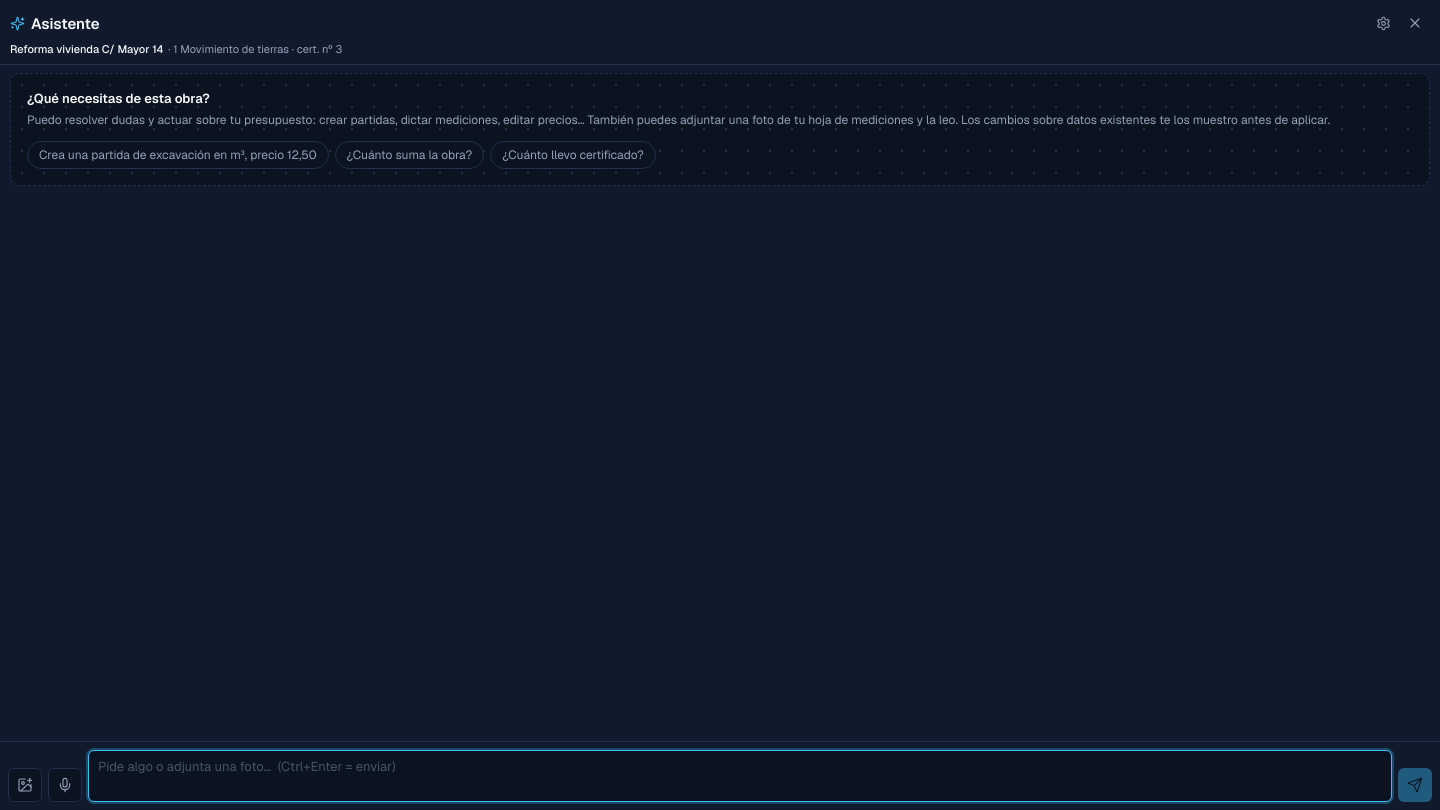
Scenario: AsistenteChat (smoke) › el botón de enviar está deshabilitado sin texto y se habilita al escribir
Expected: the button named "Enviar" is disabled, [1398, 768, 1432, 802]
Type "hola" into the text box named "Escribe tu consulta o una orden". click: (740, 776)
box: [88, 750, 1392, 802]
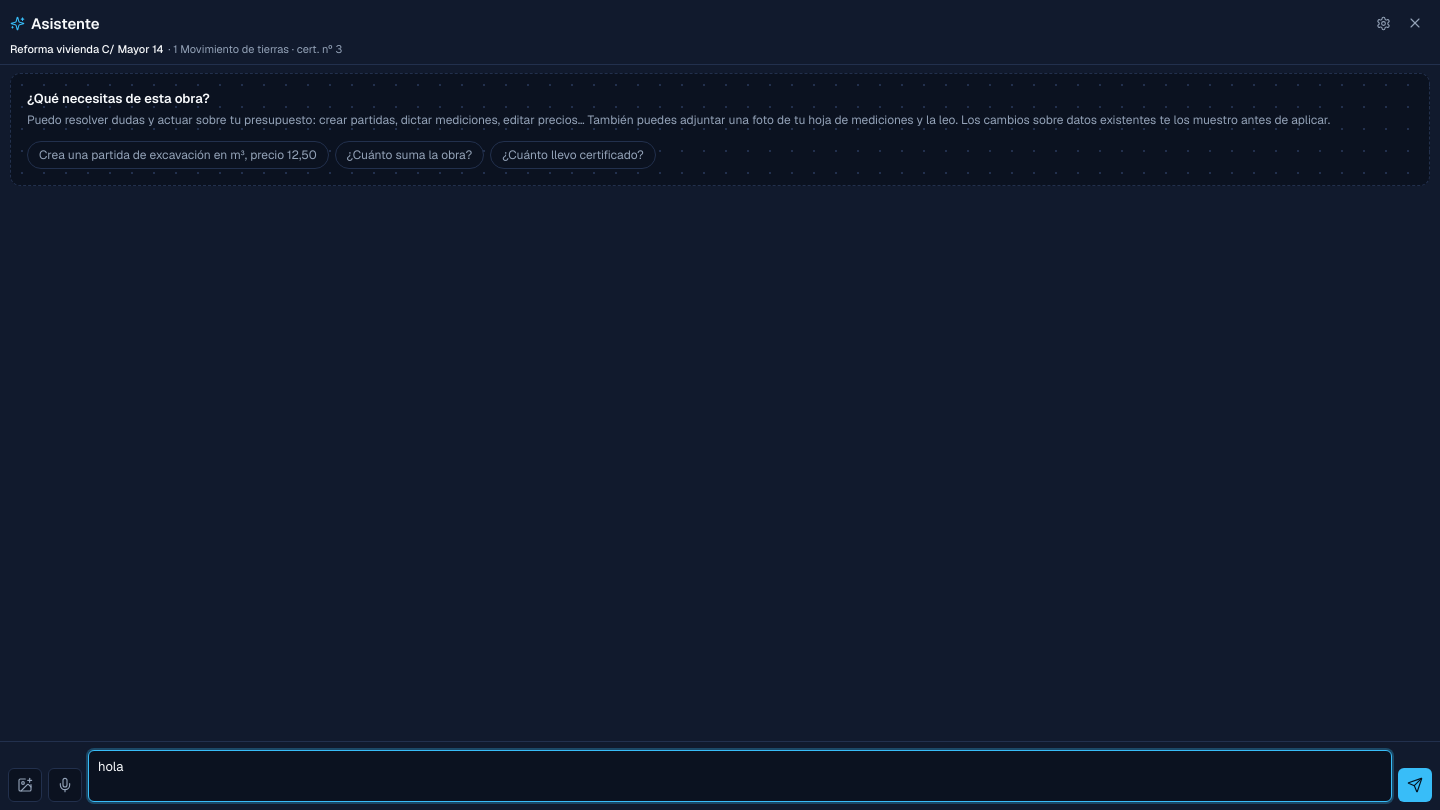
Result: the button named "Enviar" is enabled at [1398, 768, 1432, 802]
